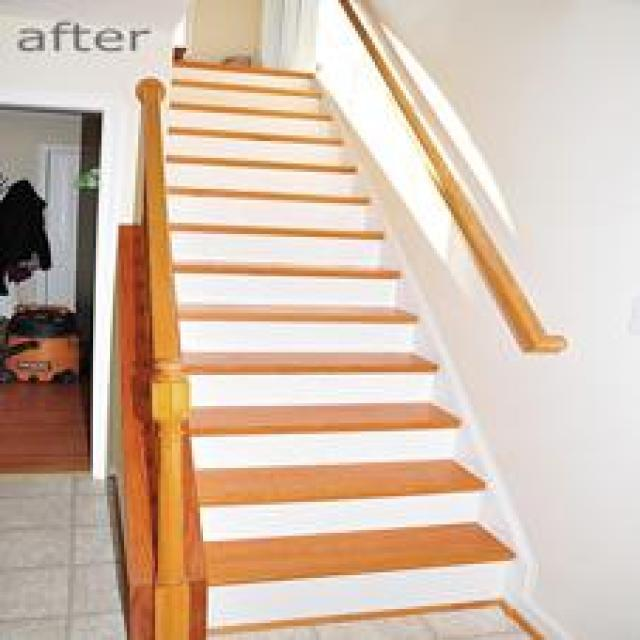stairs: (116, 45, 612, 637)
